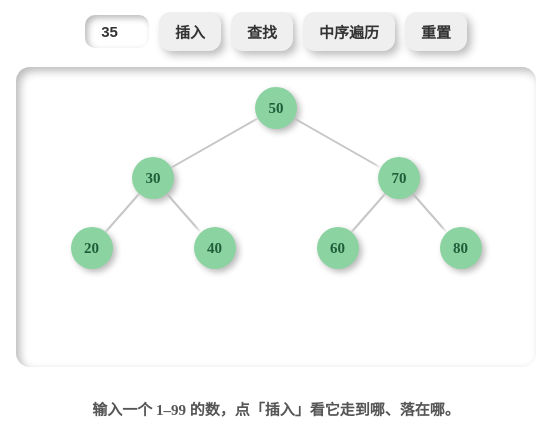
Scenario: TreeViz › TC-VIZ-TREEVIZ-03 insert 查重不增、解说已存在
Replace the text in the number field named "值" with "50" at (117, 32), box [85, 15, 149, 48]
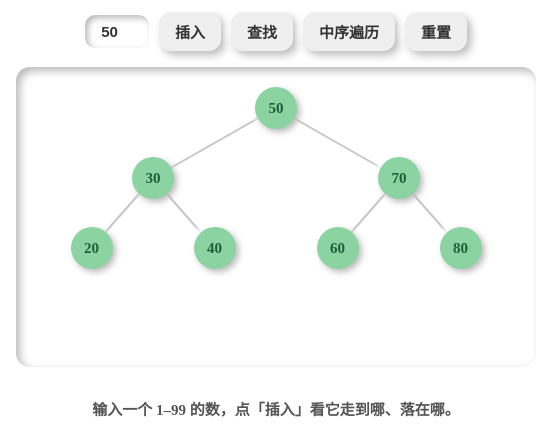
Click the button "插入" at (190, 32), box [159, 12, 221, 51]
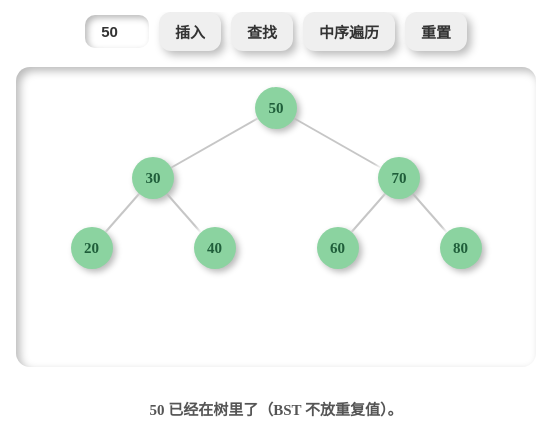
expect the message with class "status" shows "已经在树里": met, box [150, 402, 403, 418]
